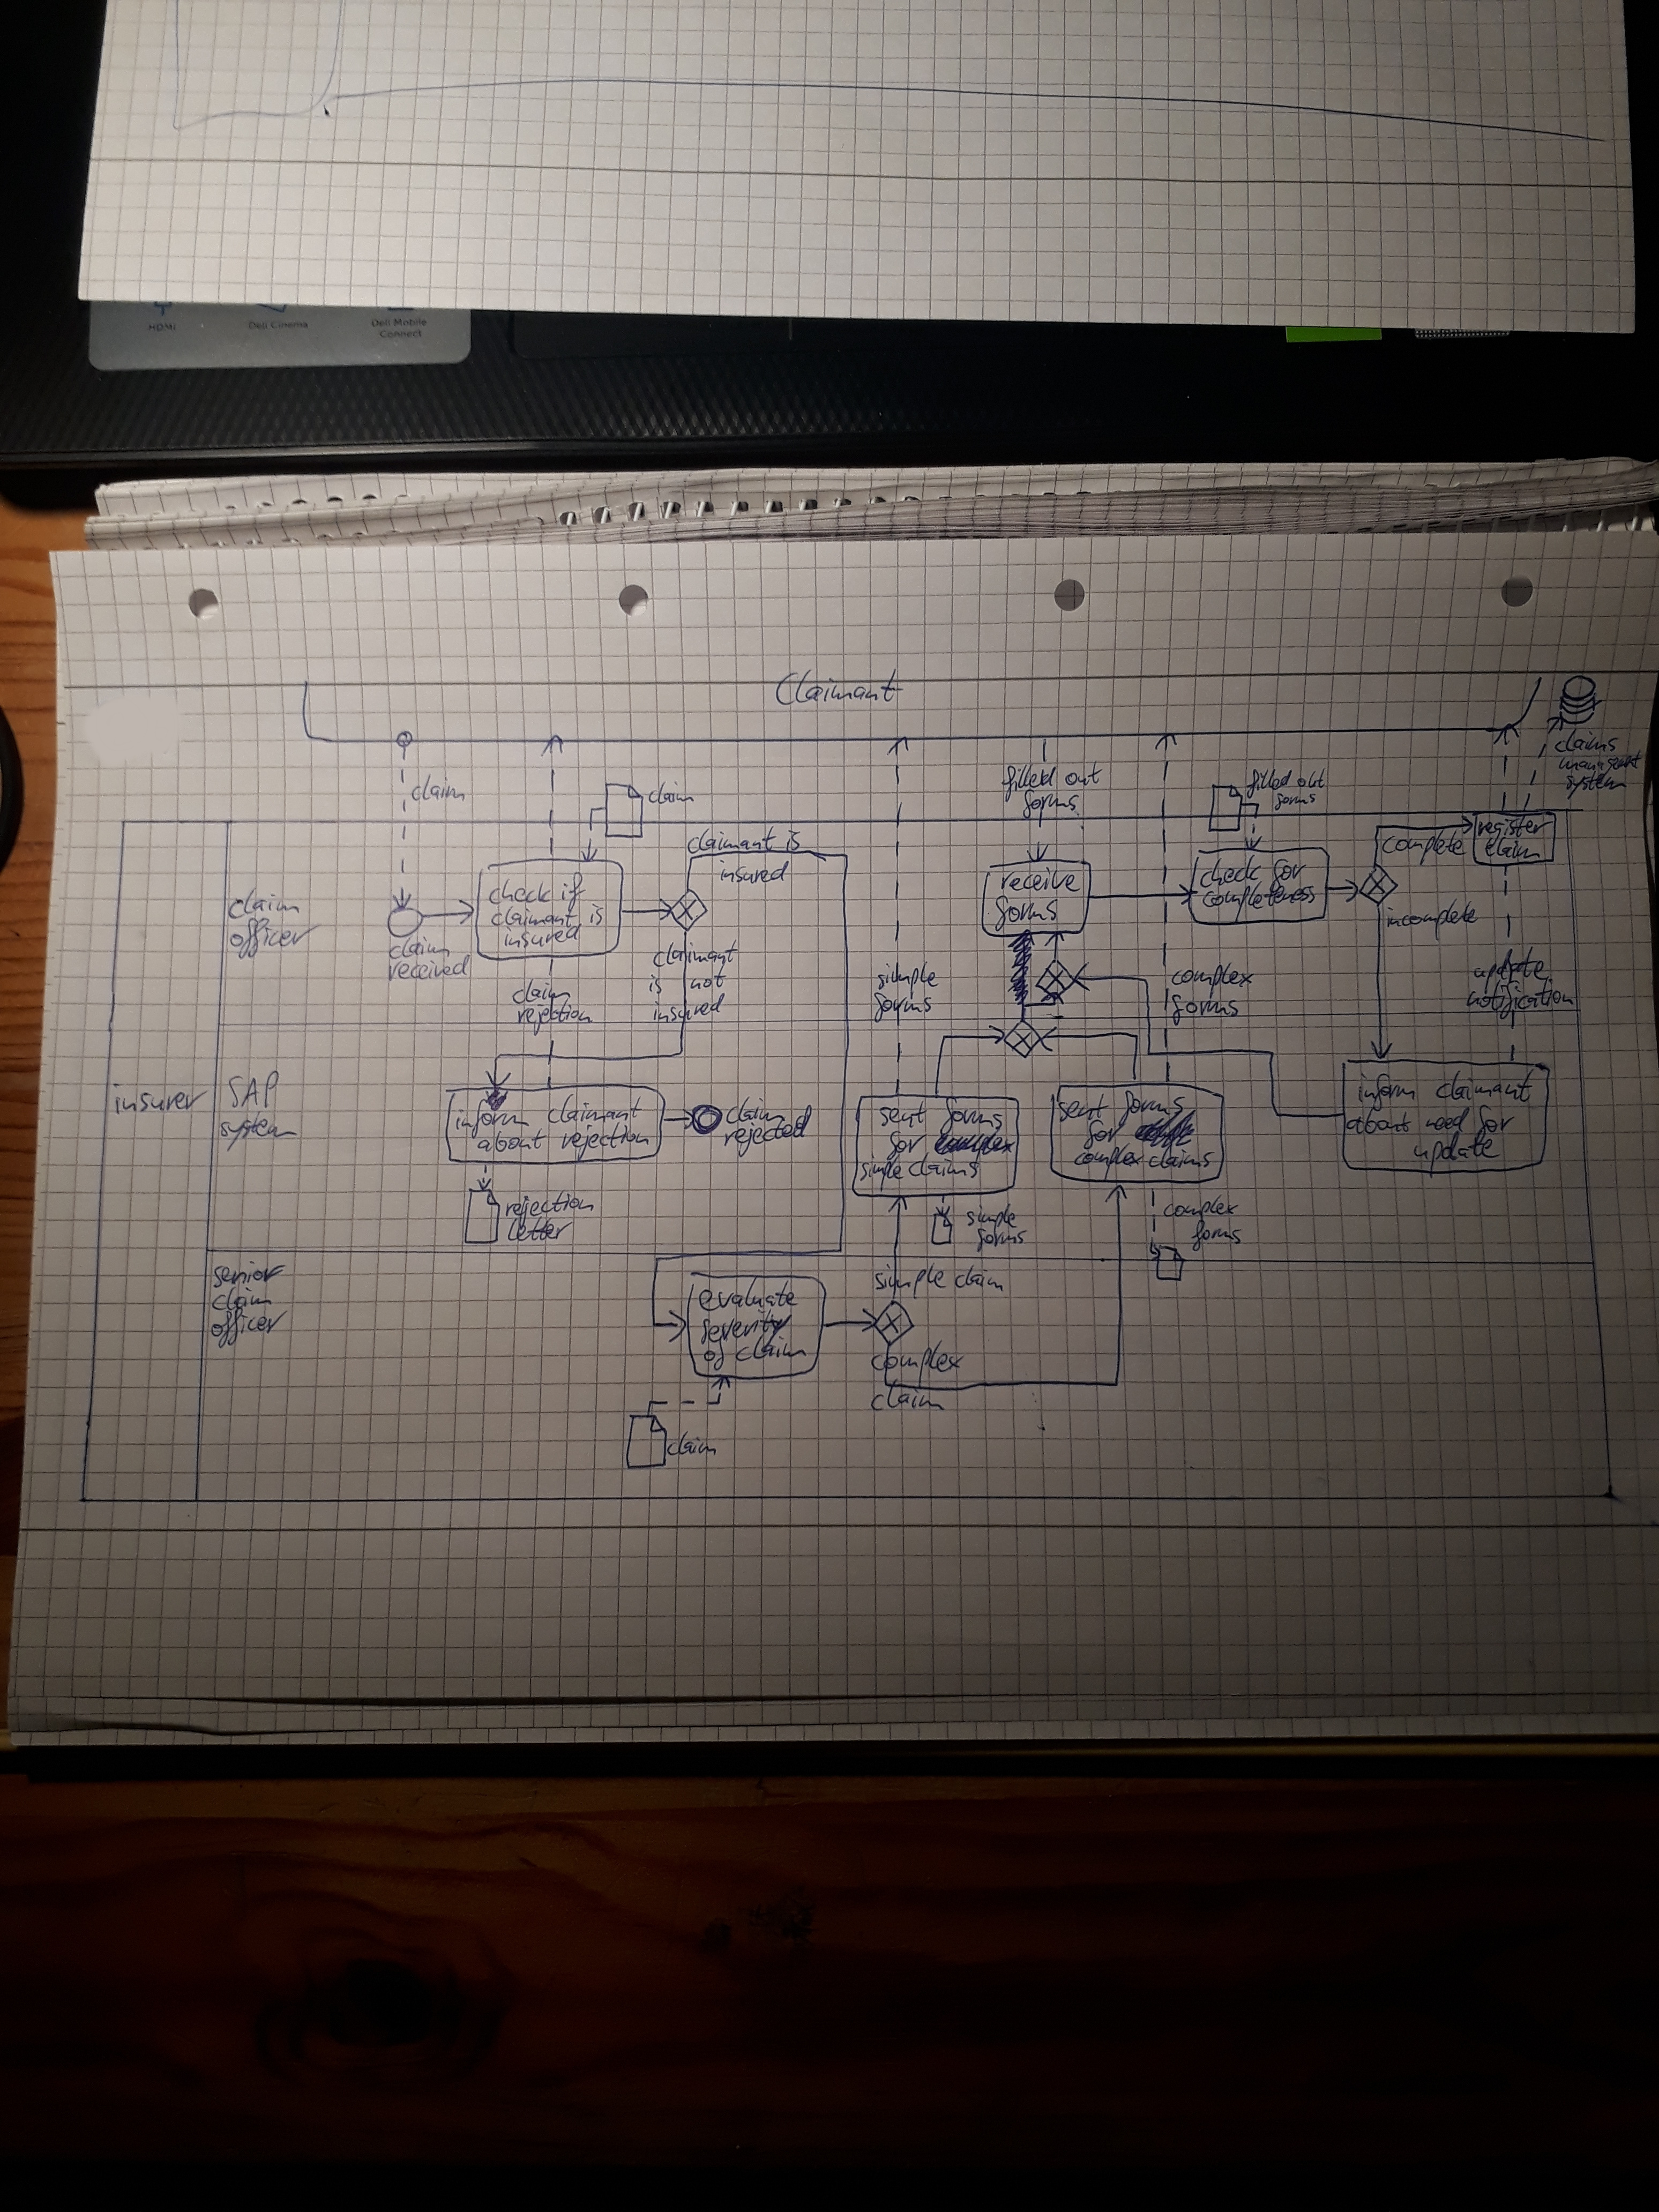Claimant: (775, 676, 906, 709), (687, 829, 775, 853)
Insured: (720, 860, 791, 883)
SAP: (227, 1069, 286, 1113)
about: (1340, 1109, 1417, 1139), (474, 1129, 549, 1153)
check: (1199, 853, 1263, 888)
check if: (488, 883, 591, 907)
claim: (734, 1334, 812, 1369), (870, 1386, 950, 1418), (230, 892, 301, 918), (509, 977, 575, 1003), (662, 1430, 720, 1460), (951, 1263, 1006, 1292), (411, 777, 472, 803), (727, 1097, 784, 1123), (389, 935, 450, 960), (211, 1287, 274, 1310), (1481, 838, 1540, 859), (645, 784, 695, 808)
claimant: (1434, 1073, 1539, 1106), (551, 1099, 640, 1123), (653, 944, 737, 967), (490, 907, 575, 927)
claims: (1147, 1144, 1216, 1172), (904, 1155, 981, 1179), (1553, 733, 1621, 756)
complete: (1382, 831, 1469, 857)
completeness: (1199, 883, 1317, 909)
complex: (873, 1350, 962, 1378), (1169, 963, 1256, 991), (1161, 1195, 1241, 1223), (1075, 1146, 1143, 1172)
evaluate: (697, 1280, 802, 1317)
filled: (1000, 765, 1058, 791), (1246, 770, 1293, 792)
for: (1079, 1120, 1127, 1146), (1265, 859, 1307, 887), (1476, 1108, 1513, 1137), (889, 1132, 924, 1155)
forms: (936, 1099, 1007, 1130), (1168, 993, 1243, 1022), (995, 892, 1058, 927), (1117, 1090, 1190, 1120), (875, 989, 932, 1019), (1023, 787, 1082, 815), (972, 1226, 1030, 1252), (1190, 1221, 1243, 1249), (1270, 787, 1321, 812)
incomplete: (1385, 904, 1481, 928)
inform: (455, 1106, 530, 1130), (1356, 1075, 1417, 1103)
insured: (648, 991, 728, 1029), (498, 923, 586, 949)
insurer: (113, 1078, 204, 1116)
is: (777, 831, 807, 857), (584, 904, 608, 928), (643, 975, 666, 995)
letter: (507, 1214, 573, 1242)
management: (1554, 752, 1645, 775)
need: (1424, 1106, 1471, 1136)
not: (690, 974, 727, 991)
notification: (1460, 982, 1574, 1010)
of: (701, 1339, 728, 1366)
officer: (230, 920, 308, 956), (206, 1312, 279, 1346)
out: (1063, 759, 1105, 787), (1293, 766, 1330, 789)
receive: (999, 869, 1080, 897)
received: (390, 954, 472, 982)
register: (1476, 815, 1553, 841)
rejected: (723, 1120, 810, 1146)
rejection: (505, 1191, 596, 1219), (561, 1129, 652, 1155), (519, 1007, 598, 1028)
senior: (209, 1261, 288, 1289)
sent: (875, 1103, 931, 1134), (1054, 1094, 1107, 1123)
severity: (701, 1315, 791, 1343)
simple: (875, 1263, 943, 1299), (871, 961, 938, 995), (964, 1200, 1019, 1230), (861, 1158, 901, 1184)
system: (216, 1109, 298, 1148), (1563, 773, 1629, 792)
update: (1413, 1129, 1502, 1169), (1469, 951, 1560, 981)
